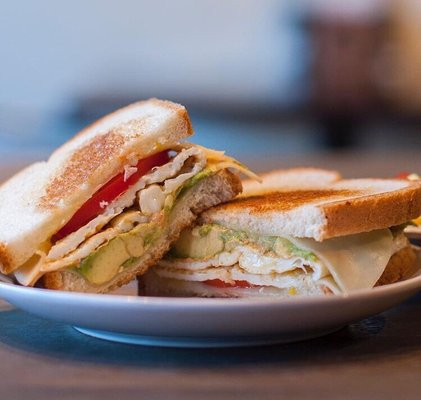soup: (0, 96, 397, 304), (139, 175, 421, 299)
